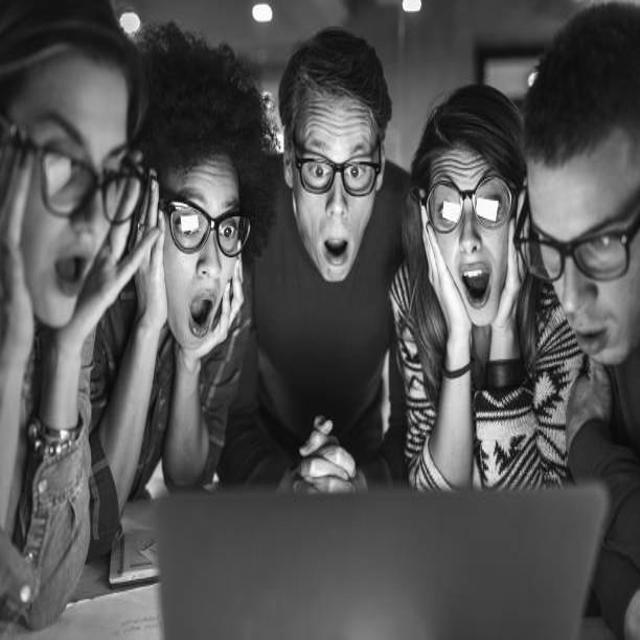Surprised: (15, 69, 135, 341), (535, 139, 638, 361), (287, 91, 385, 288), (417, 147, 518, 333), (155, 149, 244, 353)
